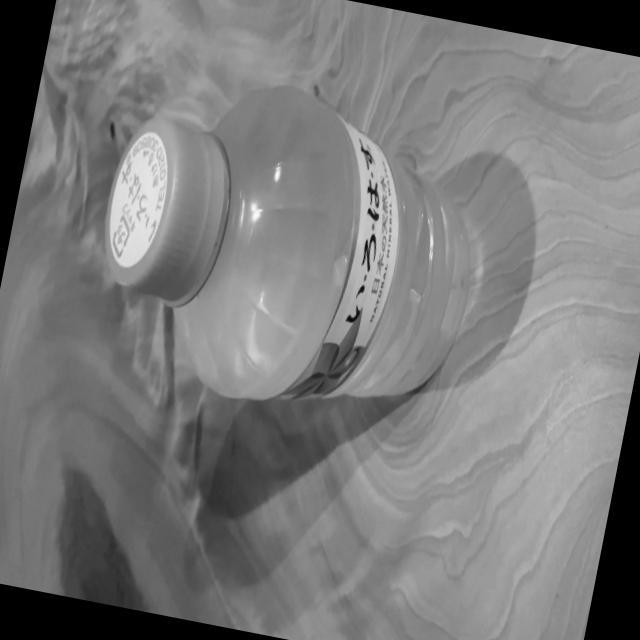good: (74, 52, 503, 440)
